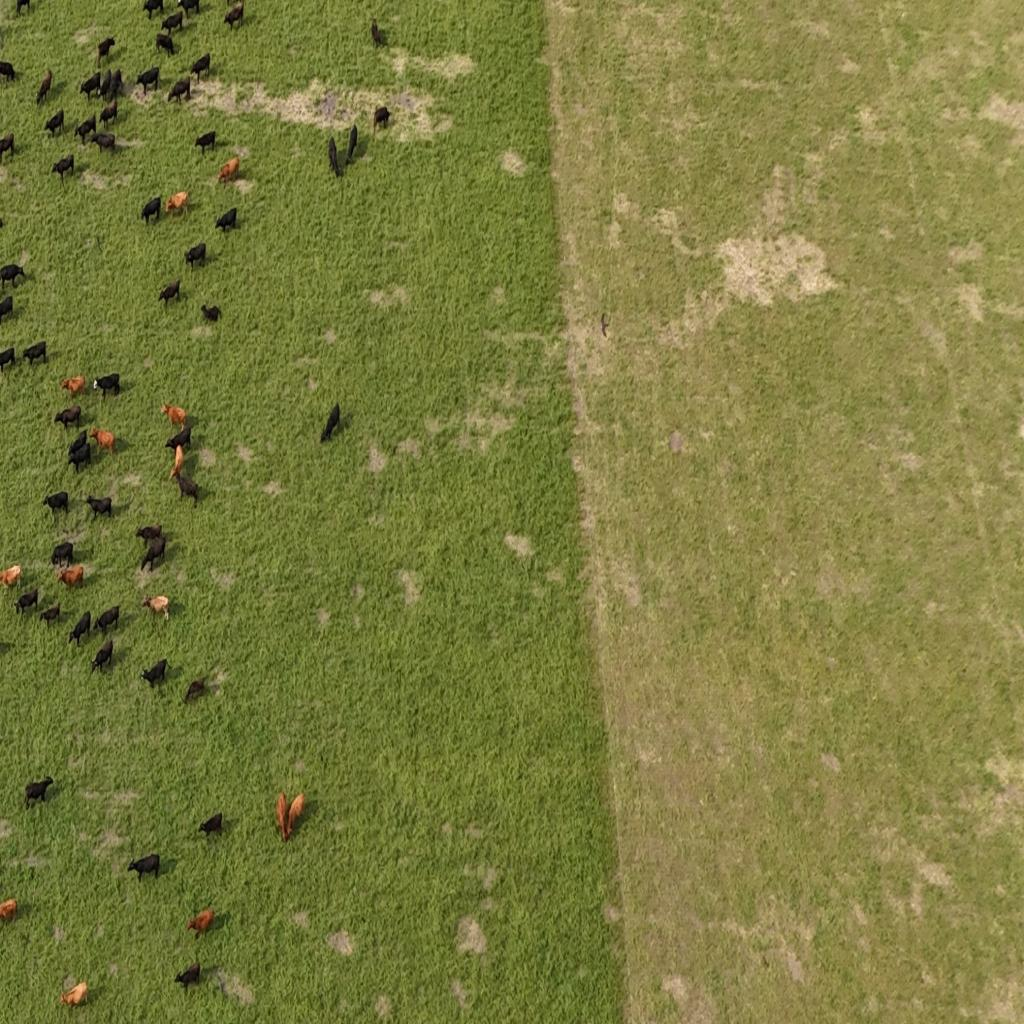cow: (24, 775, 54, 809), (140, 535, 166, 573), (128, 852, 160, 882), (92, 605, 120, 639), (286, 792, 306, 839), (173, 471, 199, 507), (186, 907, 216, 938), (68, 610, 92, 646), (89, 638, 113, 674), (140, 659, 168, 689), (141, 595, 170, 623), (174, 959, 201, 989), (42, 491, 70, 519), (93, 372, 121, 400), (60, 980, 88, 1008), (320, 404, 340, 443), (166, 424, 192, 454), (89, 426, 115, 456), (67, 442, 91, 474), (51, 154, 75, 185), (54, 406, 82, 432), (85, 494, 113, 520), (161, 402, 187, 430), (50, 540, 74, 570), (276, 792, 290, 843), (0, 263, 26, 290), (198, 812, 223, 840), (22, 341, 48, 367), (56, 565, 83, 590), (14, 590, 38, 618), (167, 78, 191, 106), (164, 191, 188, 219), (135, 66, 159, 94), (79, 72, 101, 102), (168, 442, 184, 482), (99, 100, 119, 132), (158, 279, 180, 308), (74, 118, 96, 146), (36, 69, 53, 105), (185, 242, 206, 271), (328, 136, 342, 179), (141, 197, 161, 227), (224, 1, 244, 31), (216, 158, 239, 184), (90, 132, 116, 155), (189, 52, 210, 80), (60, 375, 85, 398), (184, 678, 206, 704), (215, 208, 237, 234), (195, 130, 216, 157), (135, 524, 162, 545), (44, 109, 64, 137), (39, 604, 62, 628), (0, 565, 22, 589), (160, 11, 184, 33), (68, 429, 88, 455), (346, 123, 358, 165), (155, 32, 176, 56), (97, 36, 115, 64), (0, 133, 15, 165), (176, 0, 200, 20), (373, 106, 390, 134), (0, 347, 16, 375), (0, 897, 17, 923), (0, 60, 17, 86), (200, 303, 221, 324), (142, 0, 164, 20), (108, 68, 122, 99), (98, 69, 112, 100), (0, 294, 13, 324), (370, 20, 384, 47), (16, 0, 30, 17)
